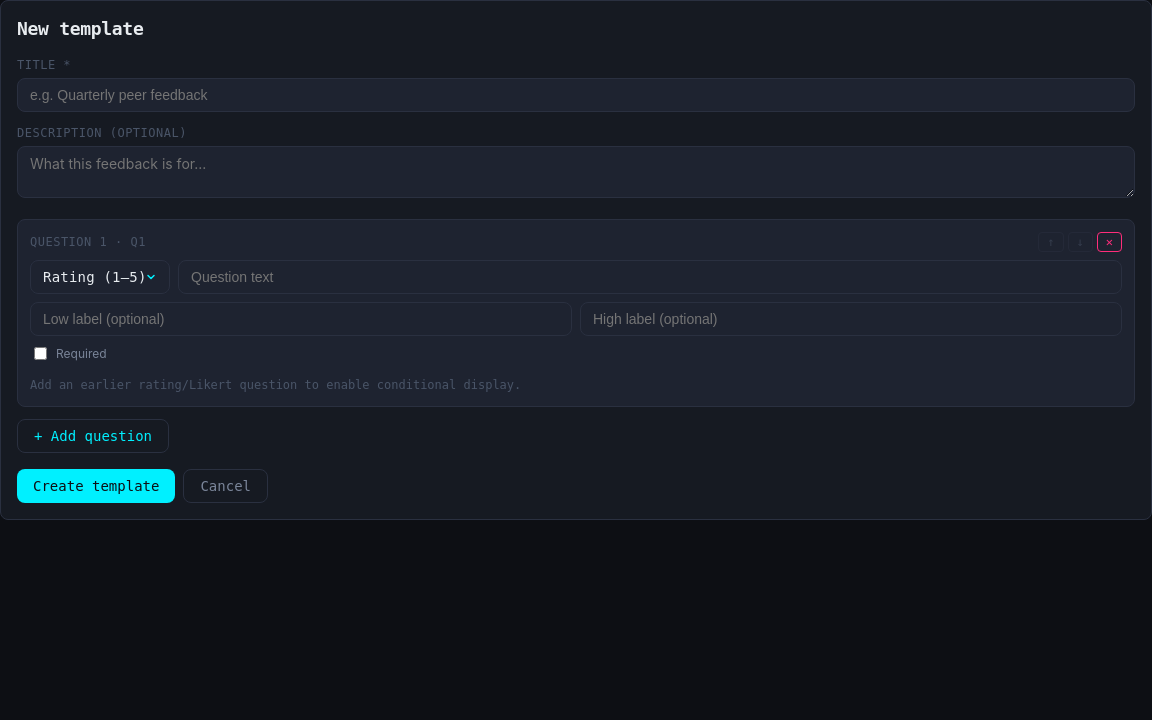
Test case: FeedbackTemplateBuilder › adds and removes questions
Click the button with test id "ftb-add-question" at (93, 436), box [17, 419, 169, 453]
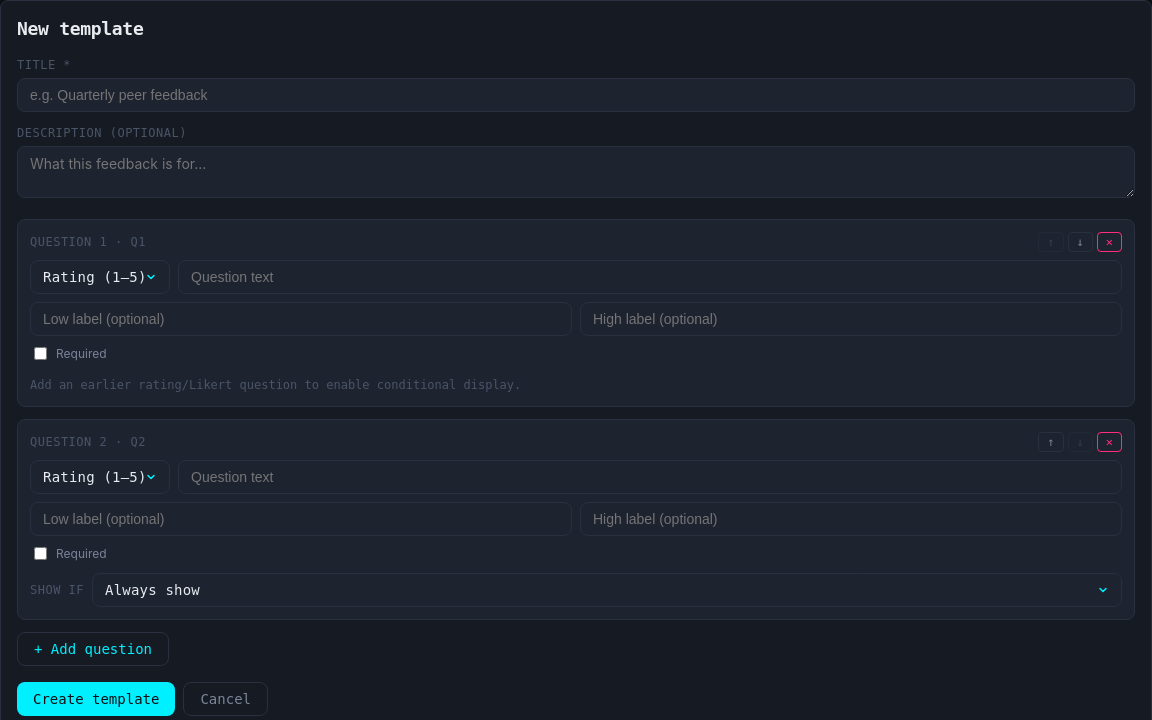
Check: the element with test id "ftb-question-1" is shown, box [17, 419, 1135, 620]
Click the button with test id "ftb-question-1-remove" at (1109, 442), box [1097, 432, 1122, 452]
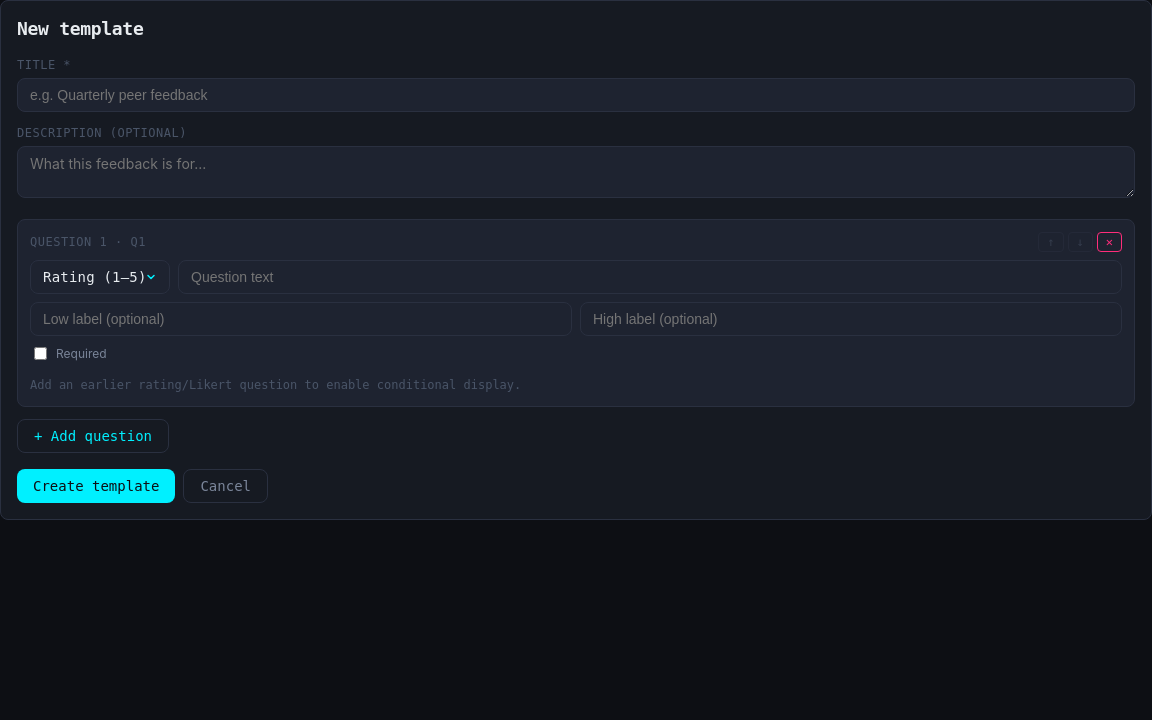
Check: the element with test id "ftb-question-1" is gone
